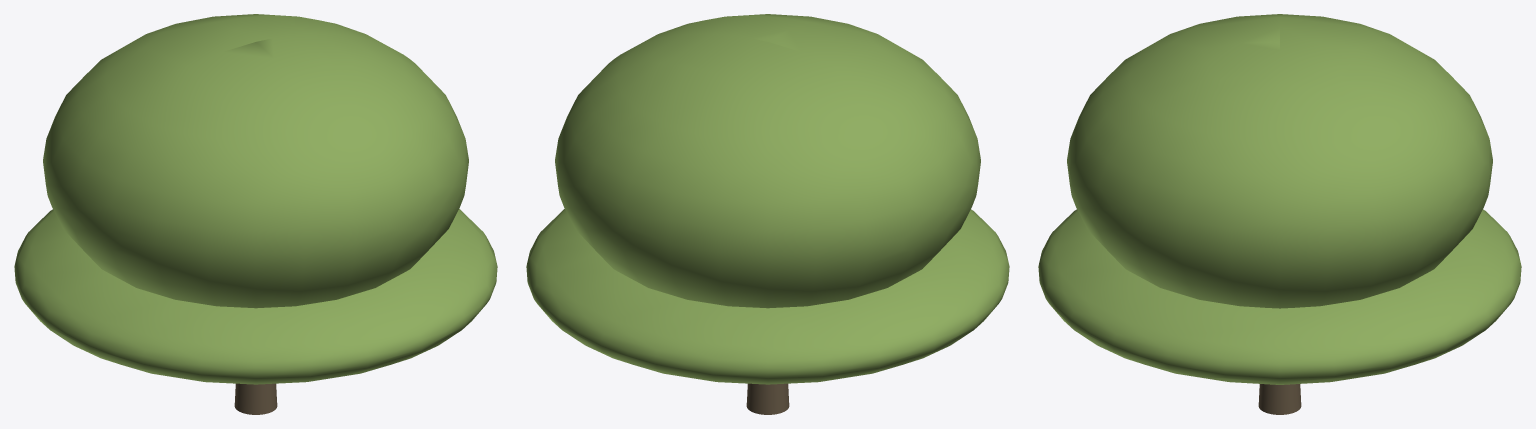
File: e02-weeping-willow.glb
3 views of the same model, side by side, from view 1: azimuth 30°, elevation 25°; view 2: azimuth 150°, elevation 25°; view 3: azimuth 270°, elevation 25° (orthographic).
Parts seen in each view (by area): view 1: part1, part2, part0; view 2: part1, part2, part0; view 3: part1, part2, part0.
Boxes of the visible parts, x1=… form: part1: x1=43, y1=14, x2=468, y2=308; part2: x1=14, y1=209, x2=497, y2=384; part0: x1=234, y1=383, x2=277, y2=414; part1: x1=555, y1=14, x2=980, y2=308; part2: x1=526, y1=209, x2=1009, y2=384; part0: x1=746, y1=383, x2=789, y2=414; part1: x1=1067, y1=14, x2=1492, y2=308; part2: x1=1038, y1=209, x2=1521, y2=384; part0: x1=1258, y1=384, x2=1301, y2=414.
Size of the model in its own units: 13599 by 11300 by 13590.
